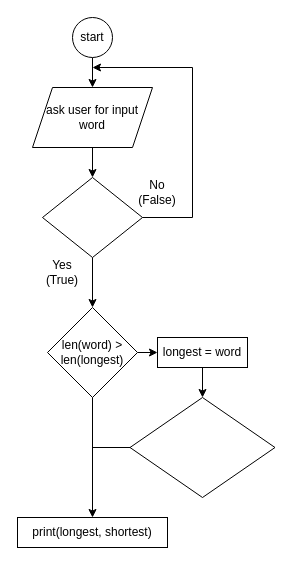
The diagram is 293 pixels wide and 565 high, and some of its shapes have lost their labels. Each missing label, with the centre of its shape:
"Is the input = 'stop'" goes at pixel 92 217.
"len(word) < len(shortest) or shortest = ''" goes at pixel 202 447.
